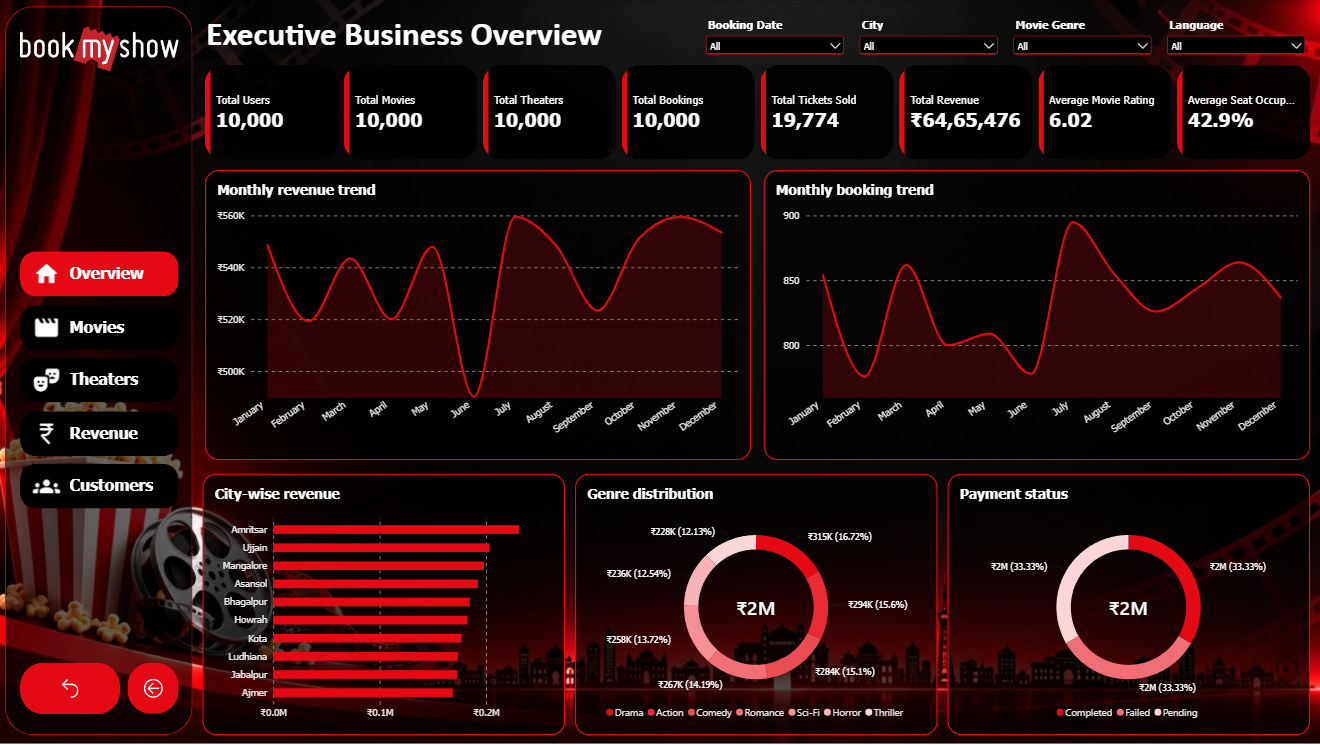

This screenshot's page, from the dashboard's own definition file:
{"tool":"powerbi","page":{"name":"Executive Business Overview","canvas":[1920,1080],"ordinal":0},"visuals":[{"type":"shape","box":[7.9,9,271.4,1055],"z":0},{"type":"image","box":[28.3,19.9,229.8,101.3],"z":1000,"group":"g1"},{"type":"cardVisual","fields":{"Data":["_Measures.Total Users","_Measures.Total Movies","_Measures.Total Theaters","_Measures.Total Bookings","_Measures.Total Tickets Sold","_Measures.Total Revenue","_Measures.Average Movie Rating","_Measures.Average Seat Occupancy"]},"box":[296.8,94.1,1603.4,137.5],"z":1000},{"type":"group","id":"g1","title":"Group 2","box":[28.3,19.9,230.7,716.6],"z":2000},{"type":"actionButton","box":[29.1,363.7,229.8,65.1],"z":2000,"group":"g2"},{"type":"lineChart","title":"Monthly revenue trend","fields":{"Category":["bookmyshow_db bookings.booking_date.Variation.Date Hierarchy.Month"],"Y":["_Measures.Total Revenue"]},"box":[296.8,246.1,790,420],"z":3000},{"type":"actionButton","box":[29,440.6,230,65.1],"z":3000,"group":"g2"},{"type":"lineChart","title":"Monthly booking trend","fields":{"Category":["bookmyshow_db bookings.booking_date.Variation.Date Hierarchy.Month"],"Y":["CountNonNull(bookmyshow_db bookings.Booking Month)"]},"box":[1105.7,246.1,790.8,419.8],"z":4000},{"type":"actionButton","box":[29.1,517.5,229.8,65.1],"z":4000,"group":"g2"},{"type":"actionButton","box":[29.1,594.4,229.8,65.1],"z":5000,"group":"g2"},{"type":"barChart","title":"City-wise revenue ","fields":{"Category":["bookmyshow_db theaters.city"],"Y":["_Measures.Total Revenue"]},"box":[293.9,685.9,525,378.2],"z":5000},{"type":"actionButton","box":[29.1,671.3,229.8,65.1],"z":6000,"group":"g2"},{"type":"donutChart","title":"Genre distribution","fields":{"Category":["bookmyshow_db movies.genre"],"Y":["_Measures.Total Revenue"]},"box":[833.2,685.9,525,378.2],"z":6000},{"type":"donutChart","title":"Payment status","fields":{"Category":["bookmyshow_db bookings.payment_status"],"Y":["_Measures.Total Revenue"]},"box":[1372.4,685.9,525,378.2],"z":7000},{"type":"group","id":"g2","title":"Group 1","box":[29,363.7,230,372.8],"z":7001,"group":"g1"},{"type":"slicer","title":"Language","fields":{"Values":["bookmyshow_db movies.language"]},"box":[1684.9,25.3,209.9,56.1],"z":8000},{"type":"slicer","title":"Language","fields":{"Values":["bookmyshow_db movies.genre"]},"box":[1462.3,25.3,209.9,56.1],"z":9000},{"type":"slicer","title":"Language","fields":{"Values":["bookmyshow_db theaters.city"]},"box":[1239.7,25.3,209.9,56.1],"z":10000},{"type":"slicer","title":"Language","fields":{"Values":["bookmyshow_db bookings.booking_date"]},"box":[1017.1,25.3,209.9,56.1],"z":11000},{"type":"textbox","box":[298.6,19.9,704,63.3],"z":12000},{"type":"actionButton","box":[28.3,959.2,145,75],"z":13000},{"type":"actionButton","box":[184.2,960,74.2,74.2],"z":14000}]}

Visuals, with their boxes in screenshot pixels (x1, y1, x2, y2), scaled from the page's 1920x1080 canvas onto the 1320x745 screenshot:
shape: x1=5 y1=6 x2=192 y2=734
image: x1=19 y1=14 x2=177 y2=84
cardVisual - _Measures.Total Users x _Measures.Total Movies: x1=204 y1=65 x2=1306 y2=160
"Group 2" group: x1=19 y1=14 x2=178 y2=508
actionButton: x1=20 y1=251 x2=178 y2=296
"Monthly revenue trend" lineChart: x1=204 y1=170 x2=747 y2=459
actionButton: x1=20 y1=304 x2=178 y2=349
"Monthly booking trend" lineChart: x1=760 y1=170 x2=1304 y2=459
actionButton: x1=20 y1=357 x2=178 y2=402
actionButton: x1=20 y1=410 x2=178 y2=455
"City-wise revenue " barChart: x1=202 y1=473 x2=563 y2=734
actionButton: x1=20 y1=463 x2=178 y2=508
"Genre distribution" donutChart: x1=573 y1=473 x2=934 y2=734
"Payment status" donutChart: x1=944 y1=473 x2=1304 y2=734
"Group 1" group: x1=20 y1=251 x2=178 y2=508
"Language" slicer: x1=1158 y1=17 x2=1303 y2=56
"Language" slicer: x1=1005 y1=17 x2=1150 y2=56
"Language" slicer: x1=852 y1=17 x2=997 y2=56
"Language" slicer: x1=699 y1=17 x2=844 y2=56
textbox: x1=205 y1=14 x2=689 y2=57
actionButton: x1=19 y1=662 x2=119 y2=713
actionButton: x1=127 y1=662 x2=178 y2=713
